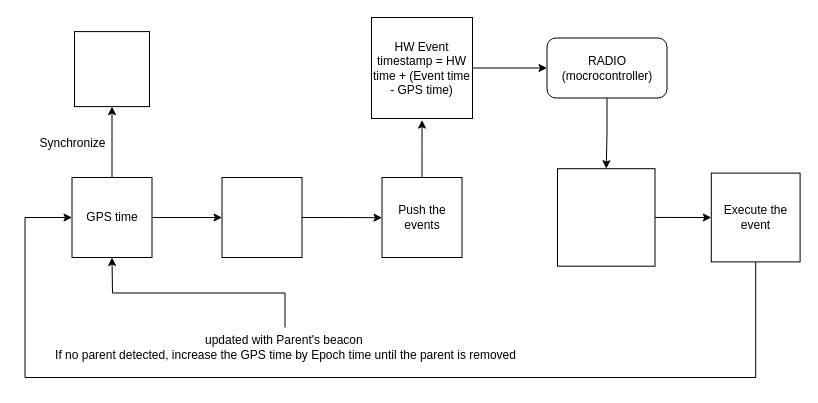
The diagram is 818 pixels wide and 403 high, and some of its shapes have lost their labels. Here are the shapes that lost their labels. From the top down, the box of each, then its label:
(74, 31, 150, 107): HW Time
(221, 176, 302, 258): Future Event times calcualted in GPS time
(556, 168, 655, 266): Event expired message by the microcontroller
